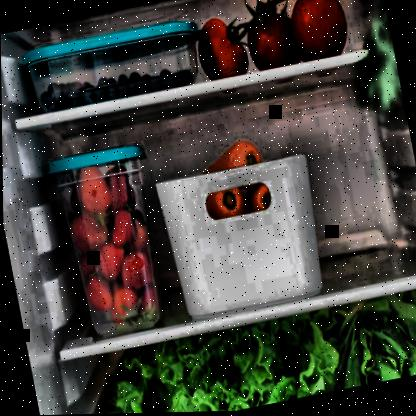blueberries: (37, 62, 191, 113)
carrot: (204, 140, 260, 172), (211, 186, 245, 220), (243, 186, 272, 213)
lettuce: (105, 319, 325, 413), (327, 295, 415, 392)
strawberries: (74, 163, 114, 226), (68, 210, 111, 253), (93, 242, 127, 281), (104, 165, 130, 213), (106, 283, 139, 319), (83, 272, 112, 311), (118, 253, 148, 289), (108, 211, 137, 247), (77, 249, 95, 276)
tomato: (287, 0, 352, 63), (195, 16, 248, 81), (244, 6, 298, 69)
